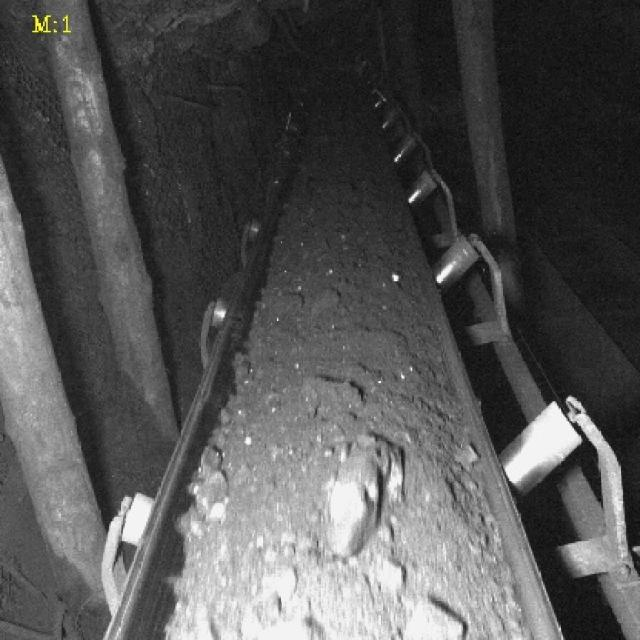large_sized_coal: (323, 440, 406, 555), (402, 598, 468, 640), (300, 377, 366, 418)
